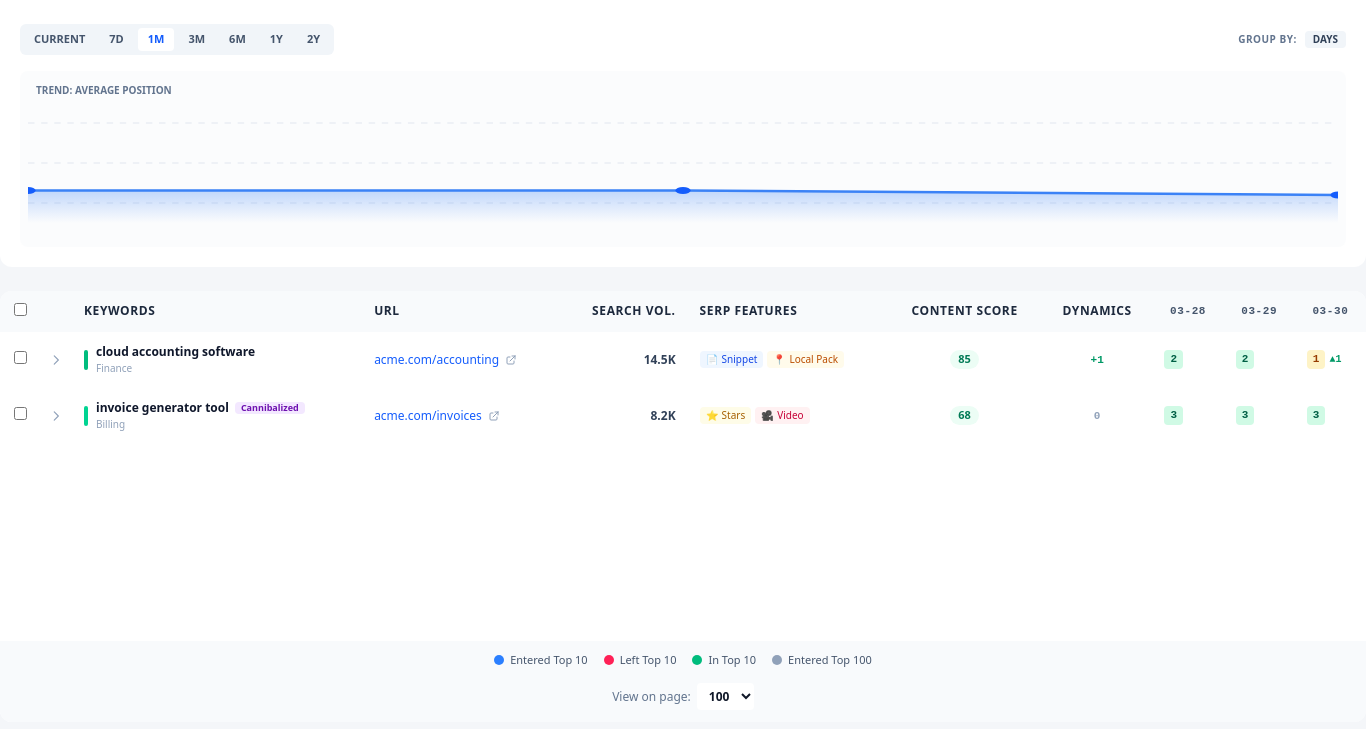
Scenario: RankingsDetailedWorkspace Component › expands keyword details drawer on chevron click
(page scrolled)
Check: the text "cloud accounting software" is shown, box [96,344,255,360]
Click the button titled "Toggle keyword details" next to "cloud accounting software" at (56,360), box [45,349,67,371]
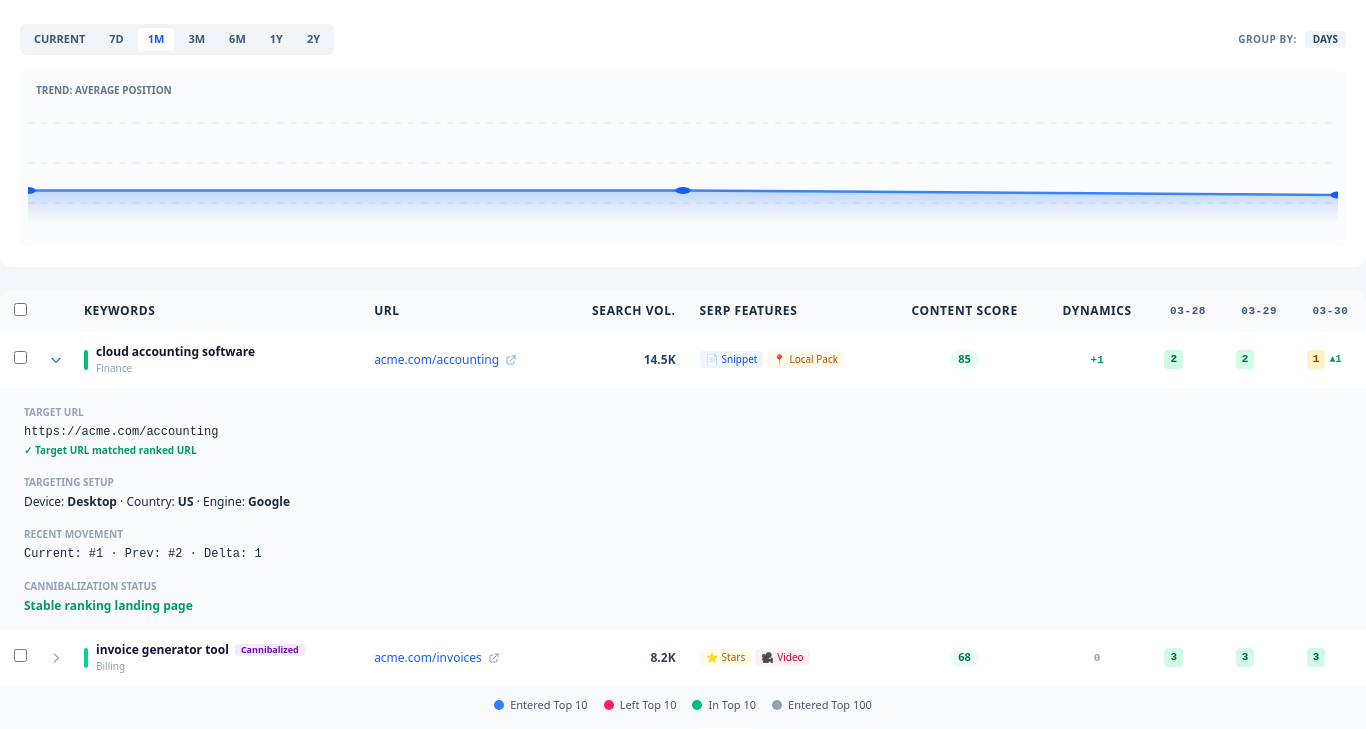
Check: the text "Target URL" is shown, box [24,405,84,419]
Check: the text "✓ Target URL matched ranked URL" is shown, box [24,444,197,457]
Check: the text "Device: desktop · Country: US · Engine: google" is shown, box [24,493,290,510]
